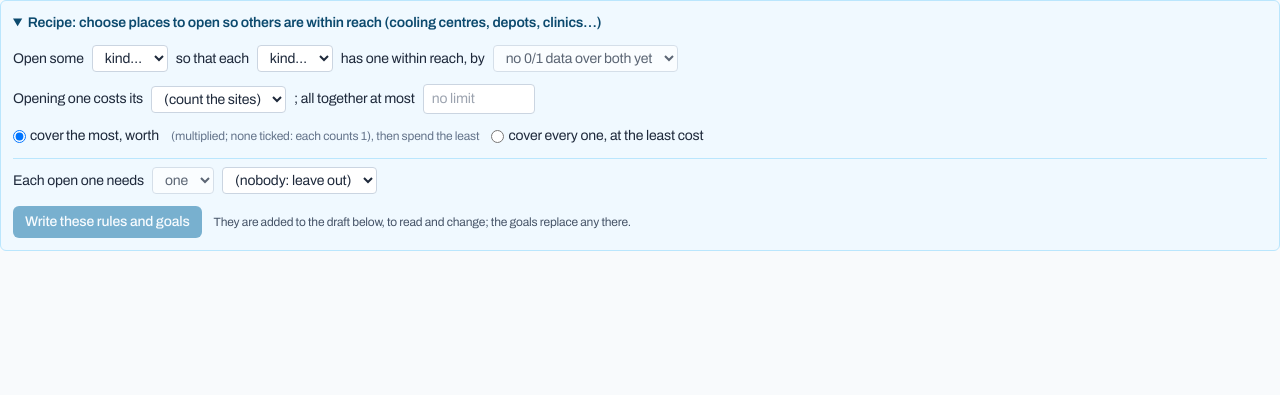
Test: opens on an empty model, and says before solving which places no site reaches
Expected: the form named "Coverage recipe" is shown, top-left (13, 45), bottom-right (1267, 238)
Select "site" in the dropdown named "Kind to open": (130, 58) top-left (92, 45), bottom-right (168, 72)
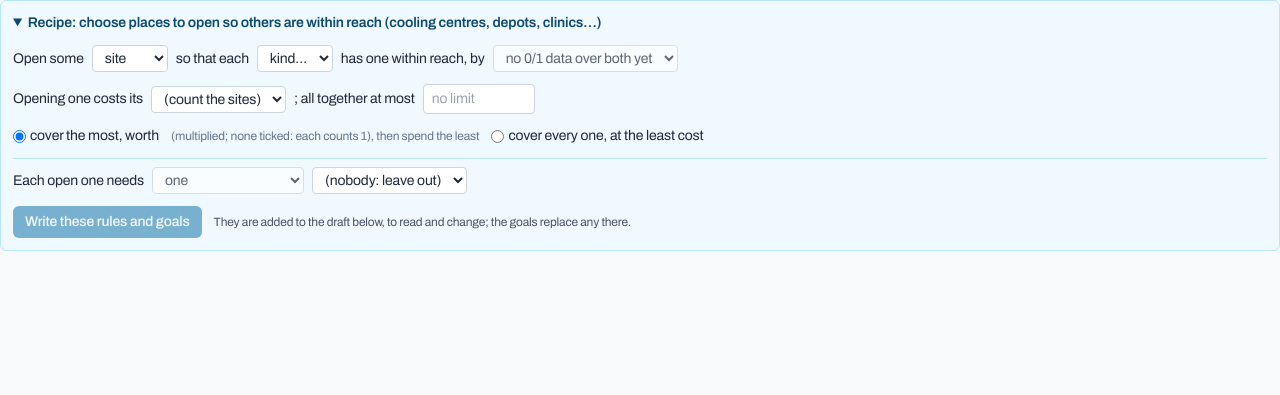
Select "zone" in the dropdown named "Kind to cover": (295, 58) top-left (257, 45), bottom-right (333, 72)
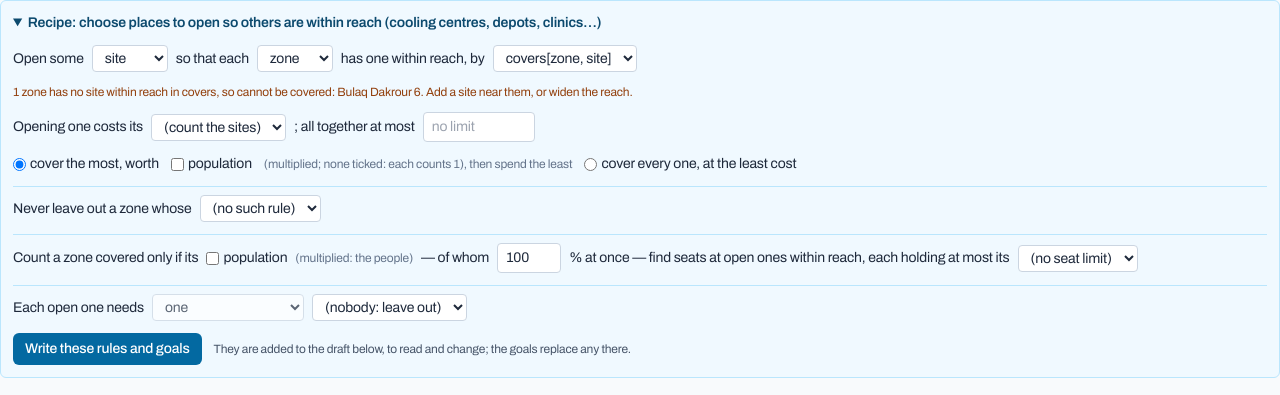
Result: the text "1 zone has no site within reach in covers, so cannot be covered: Bulaq Dakrour 6" is shown at top-left (13, 85), bottom-right (632, 99)
